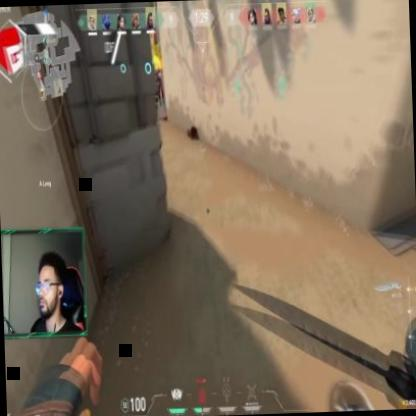enemy: (153, 64, 167, 110)
enemy_head: (156, 64, 159, 72)
